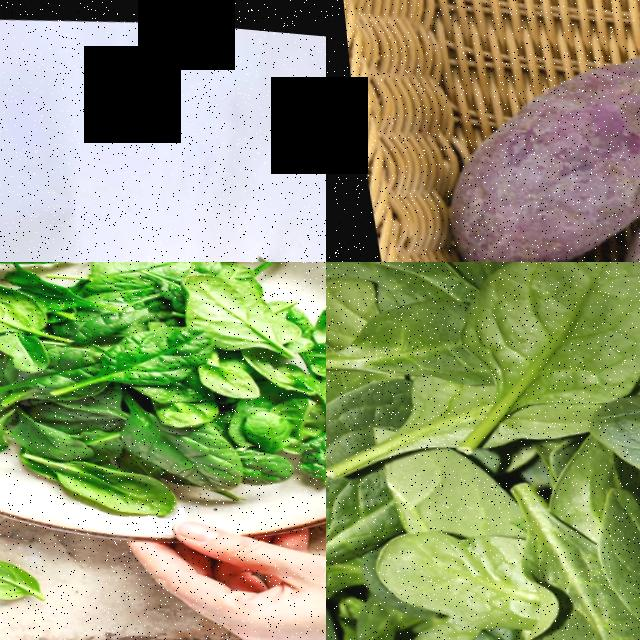spinach: (440, 262, 640, 405), (363, 514, 521, 633), (336, 286, 468, 386), (498, 568, 640, 640), (577, 358, 640, 519), (38, 446, 168, 518), (175, 262, 294, 339), (120, 411, 237, 482), (92, 315, 202, 383), (282, 416, 326, 480), (294, 316, 326, 400), (0, 550, 34, 604), (78, 262, 191, 277), (0, 284, 23, 333)
sweet potato: (413, 93, 610, 262), (499, 38, 640, 191)
